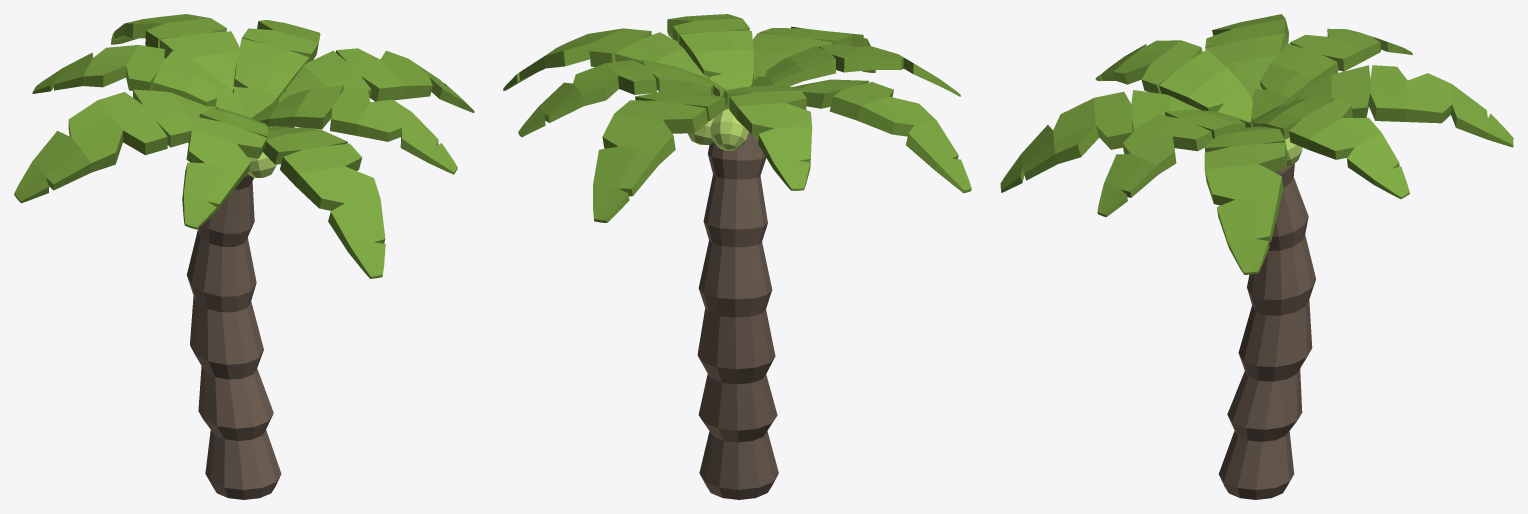
Rendered from MSI-PalmTree.fbx.
The picture shows the model from 3 angles, left to right: view 1: azimuth 30°, elevation 25°; view 2: azimuth 150°, elevation 25°; view 3: azimuth 270°, elevation 25°; orthographic projection. The views are drawn at different scales.
Visible parts, largest first — view 1: Top Leafs.001; view 2: Top Leafs.001; view 3: Top Leafs.001.
Part boxes in pixels (x1,y1,x2,y2): Top Leafs.001: (14, 14, 474, 499); Top Leafs.001: (503, 14, 971, 499); Top Leafs.001: (1000, 14, 1513, 499).
Bounding box in the file's own units: 1479 × 1311 × 1480.
